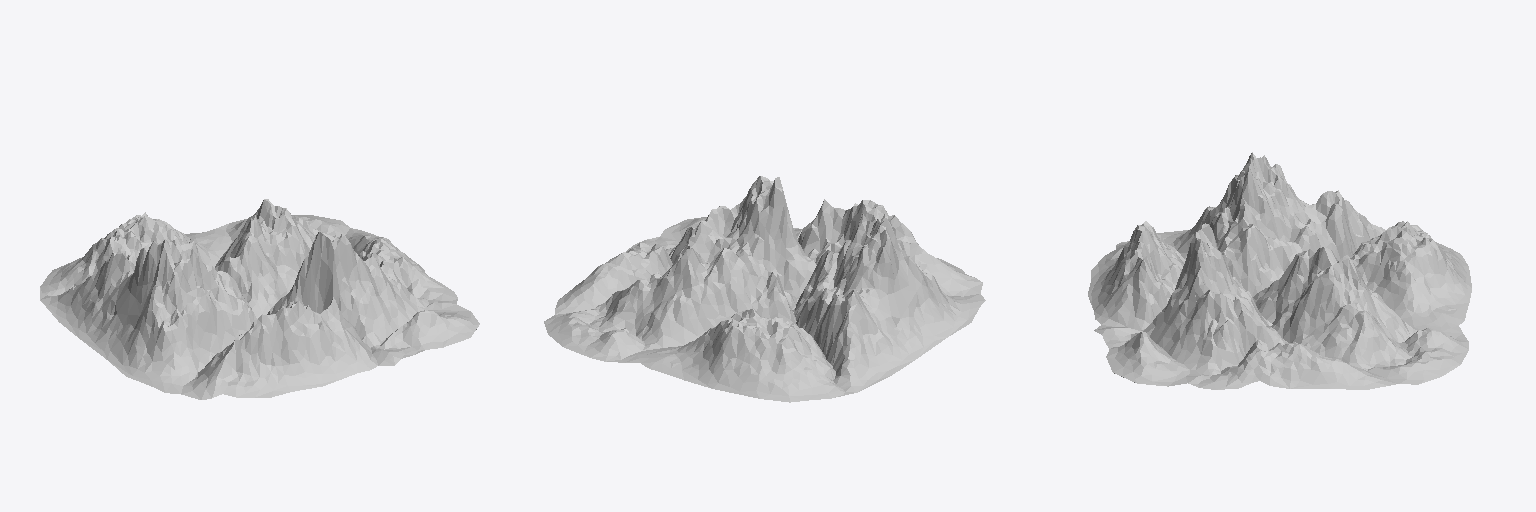
Rendered from landscape.obj.
3 renders of one model, left to right at view 1: azimuth 30°, elevation 25°; view 2: azimuth 150°, elevation 25°; view 3: azimuth 270°, elevation 25°, orthographic.
Parts seen in each view (by area): view 1: Landscape.000; view 2: Landscape.000; view 3: Landscape.000.
Boxes of the visible parts, box(x1,y1,x2,y2) form: Landscape.000: box(40, 199, 479, 399); Landscape.000: box(544, 176, 985, 402); Landscape.000: box(1088, 152, 1471, 389).
Bounding box in the file's own units: 9.82 × 2.99 × 9.82.